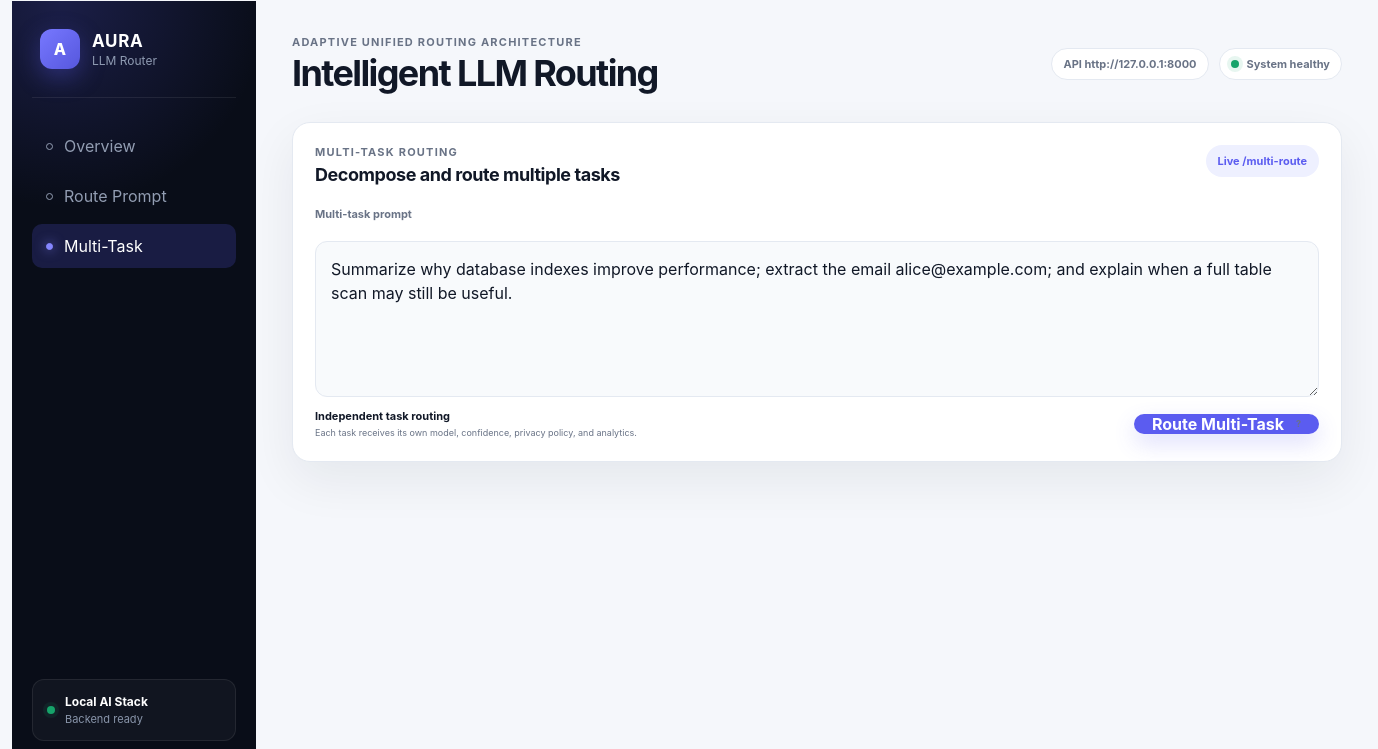
Test case: AURA routed dashboard › submits Multi-Task through the multi-route API
Check: the text "System healthy" is shown, box [1218,48,1342,80]
Click the button "Route Multi-Task ?". click: coordinates (1226, 424)
box: [1134,414,1319,434]
(page scrolled)
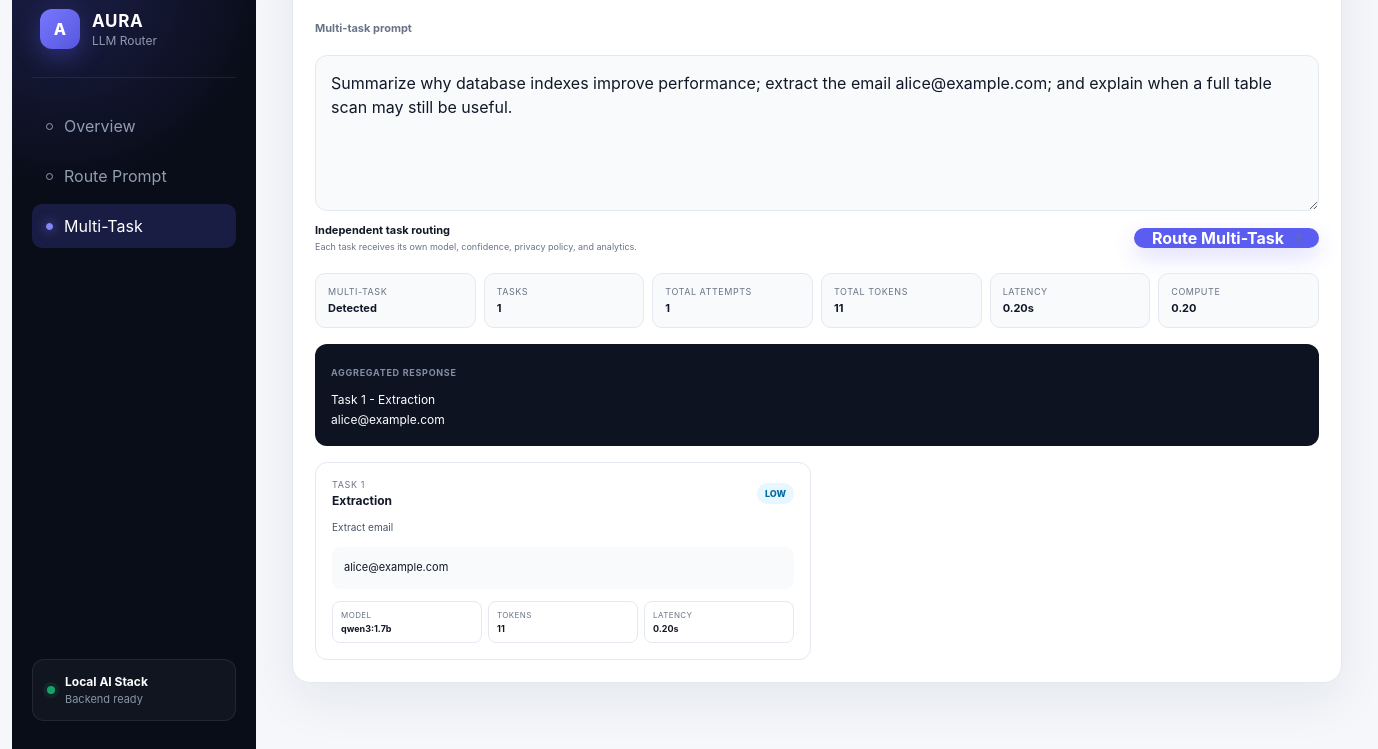
Check: the text "alice@example.com" is shown, box [332,547,794,589]
Check: the text "Model" is shown, box [341,610,372,620]
Check: the text "Tokens" is shown, box [497,610,532,620]
